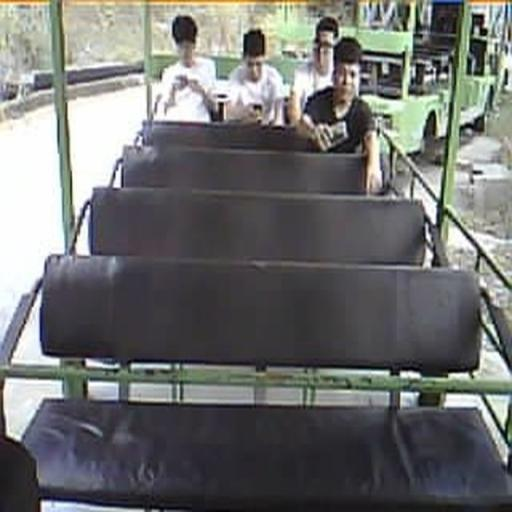persona: (294, 36, 384, 194), (152, 14, 218, 123), (226, 28, 287, 127), (288, 16, 340, 126)
